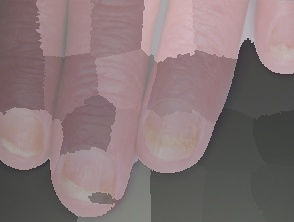Nail_psoriasis: (52, 152, 123, 217), (141, 108, 199, 164), (1, 119, 46, 154), (262, 34, 294, 61)
